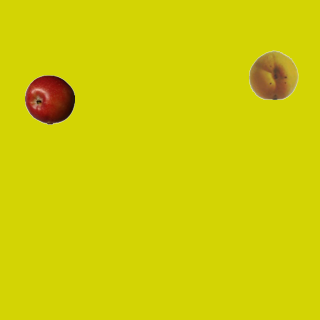Apple Braeburn: (24, 74, 74, 124)
Peach 2: (248, 49, 298, 99)
